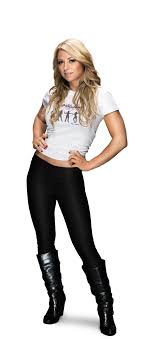person: (29, 39, 124, 180)
